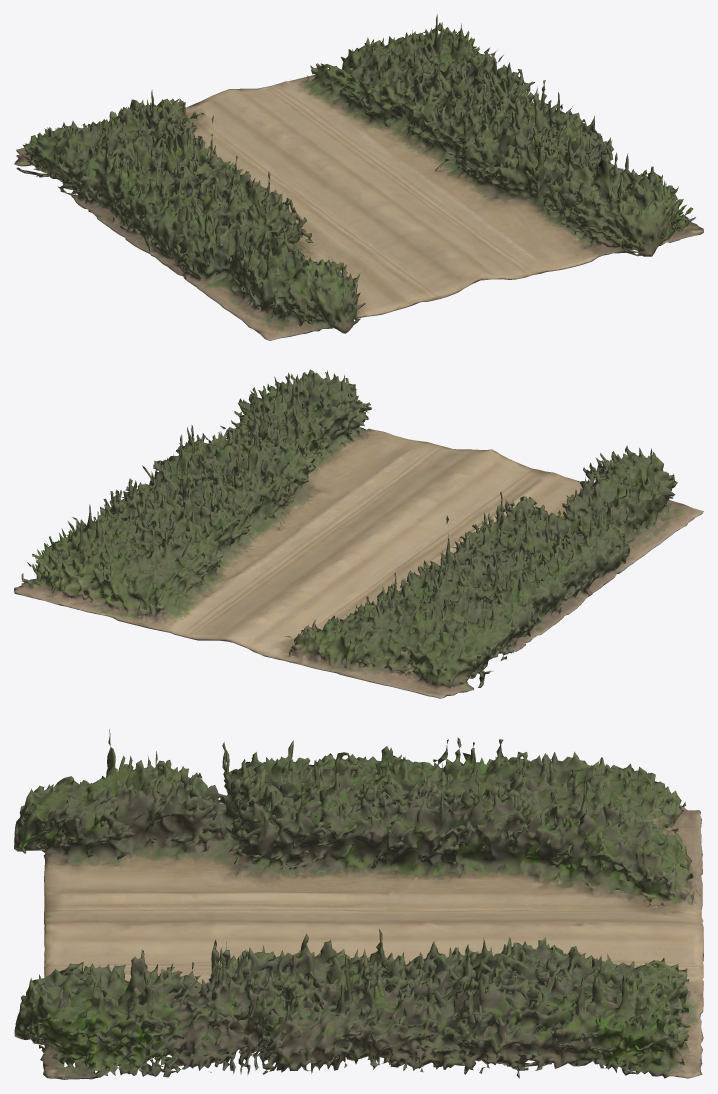
Rendered from Foot Path.fbx.
3 renders of one model, top to bottom at view 1: azimuth 30°, elevation 25°; view 2: azimuth 150°, elevation 25°; view 3: azimuth 270°, elevation 25°, orthographic. The views are drawn at different scales.
Parts seen in each view (by area): view 1: Mesh1.0; view 2: Mesh1.0; view 3: Mesh1.0.
Part boxes in pixels (left/top/right/bottom): Mesh1.0: left=14, top=14, right=703, bottom=340; Mesh1.0: left=14, top=369, right=703, bottom=698; Mesh1.0: left=14, top=729, right=703, bottom=1079.
Bounding box in the file's own units: 192 × 35.85 × 199.
1 material, 1 textured.
